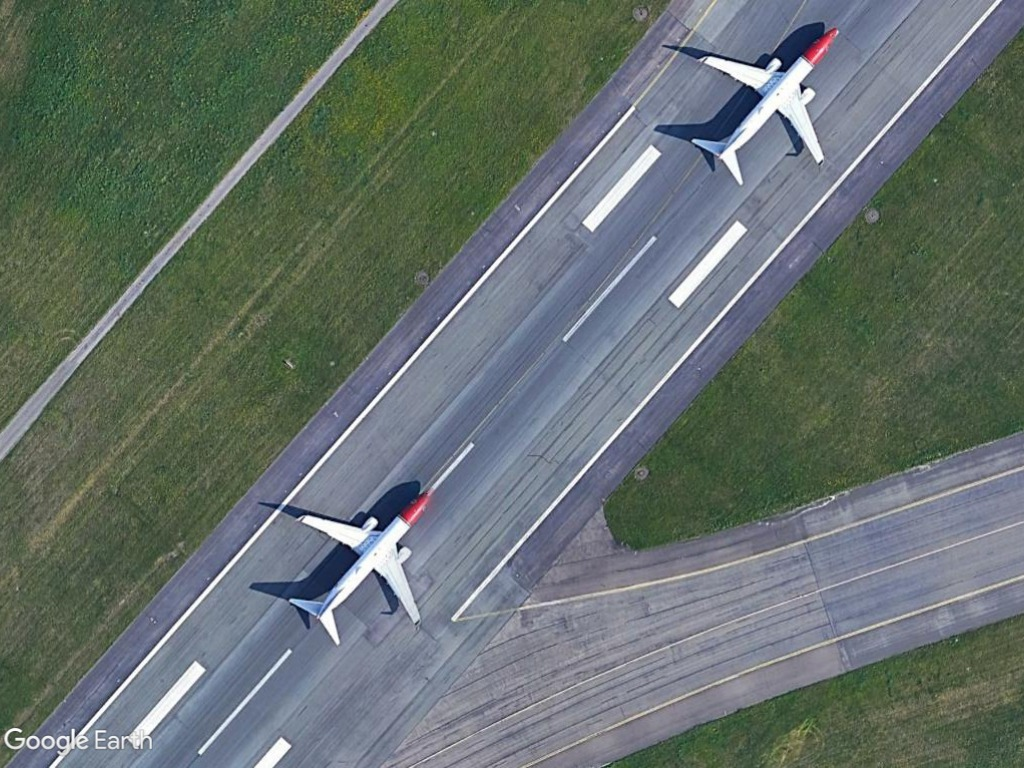airliner: (683, 20, 849, 189), (289, 482, 440, 648)
